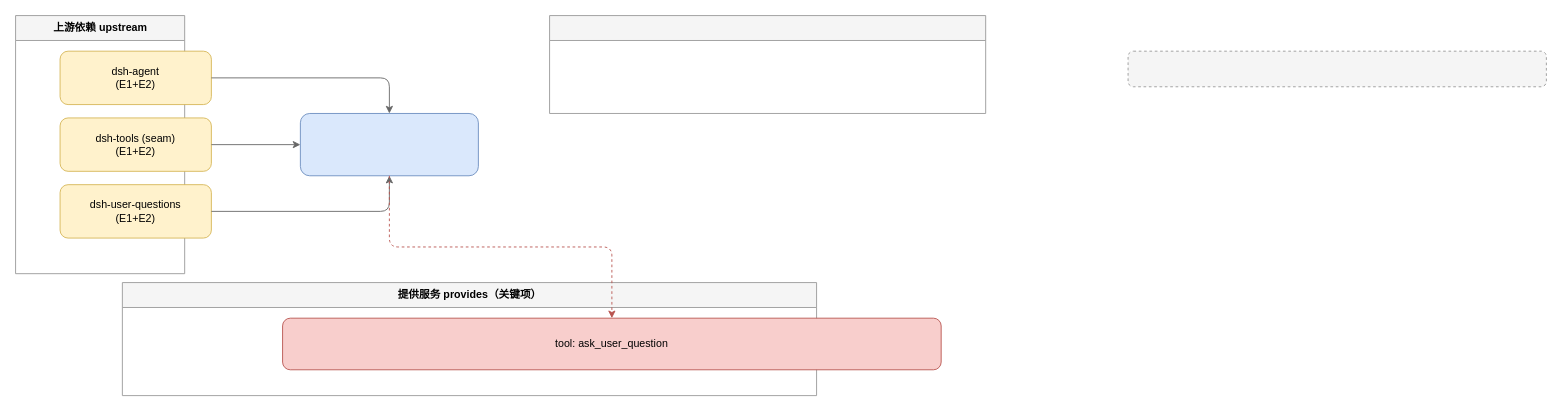
Image size: 1562x411. Some labels were removed from this diagram. The shapes that lost their labels are listed below. From the top down, each one's centre as x and y in pixels, then its label:
At (767,64): "下游被依赖 dependents".
At (1336,68): "无下游".
At (388,144): "@deepseek-ai/dsh-tool-ask-user".
